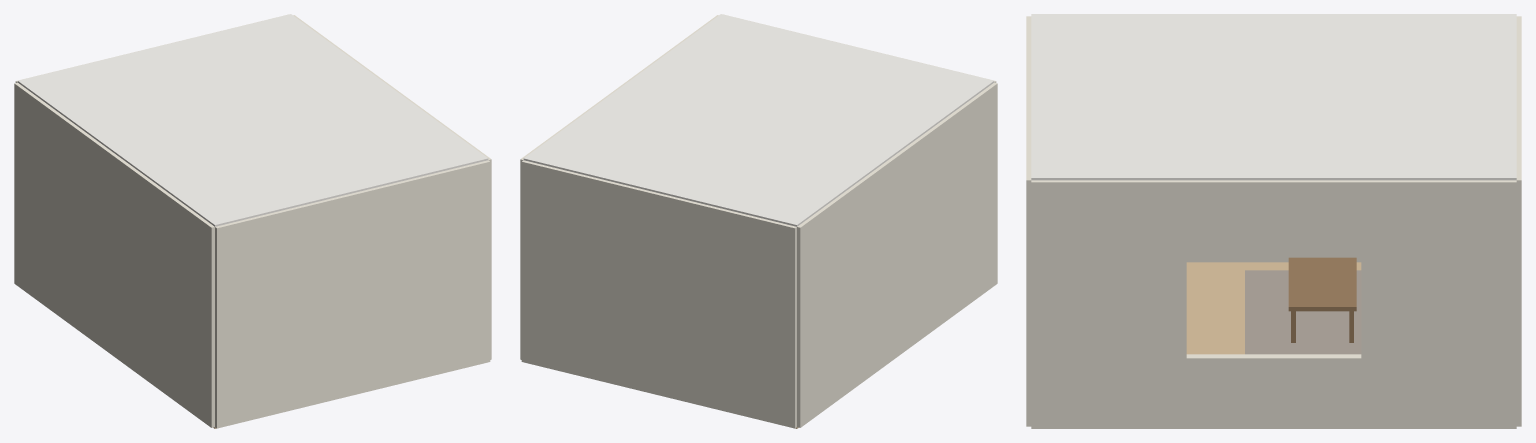
3 views of the same model, side by side, from view 1: azimuth 30°, elevation 25°; view 2: azimuth 150°, elevation 25°; view 3: azimuth 270°, elevation 25° (orthographic). The views are drawn at different scales.
Parts seen in each view (by area): view 1: wall_s, ceiling, wall_w, wall_e_r; view 2: wall_n, ceiling, wall_w, wall_e_l; view 3: ceiling, wall_e_bot, wall_e_l, wall_e_r, wall_e_top, rug, floor, wall_w, coffee_table_top, wall_n, wall_s.
Boxes of the visible parts, bbox=[...] form: wall_s: bbox=[215, 160, 490, 428]; ceiling: bbox=[17, 14, 488, 226]; wall_w: bbox=[14, 82, 214, 427]; wall_e_r: bbox=[448, 128, 491, 359]; wall_n: bbox=[521, 160, 796, 428]; ceiling: bbox=[523, 14, 994, 226]; wall_w: bbox=[797, 82, 997, 427]; wall_e_l: bbox=[520, 120, 574, 359]; ceiling: bbox=[1031, 14, 1516, 180]; wall_e_bot: bbox=[1031, 354, 1516, 428]; wall_e_l: bbox=[1361, 180, 1516, 428]; wall_e_r: bbox=[1031, 180, 1186, 428]; wall_e_top: bbox=[1031, 180, 1516, 235]; rug: bbox=[1245, 270, 1361, 354]; floor: bbox=[1186, 262, 1361, 354]; wall_w: bbox=[1186, 235, 1361, 262]; coffee_table_top: bbox=[1288, 257, 1356, 311]; wall_n: bbox=[1516, 16, 1521, 426]; wall_s: bbox=[1026, 16, 1031, 426].
Size of the model in its own units: 4.1 by 2.85 by 5.1.
